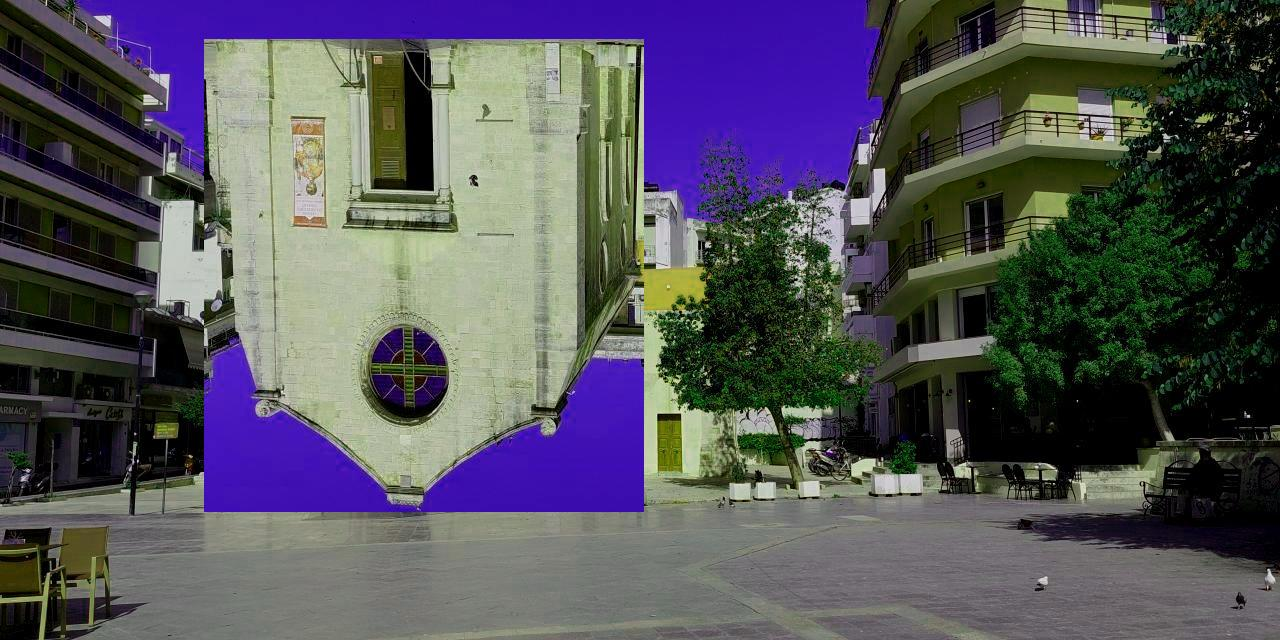Agia Aikaterini: (205, 40, 645, 513)
